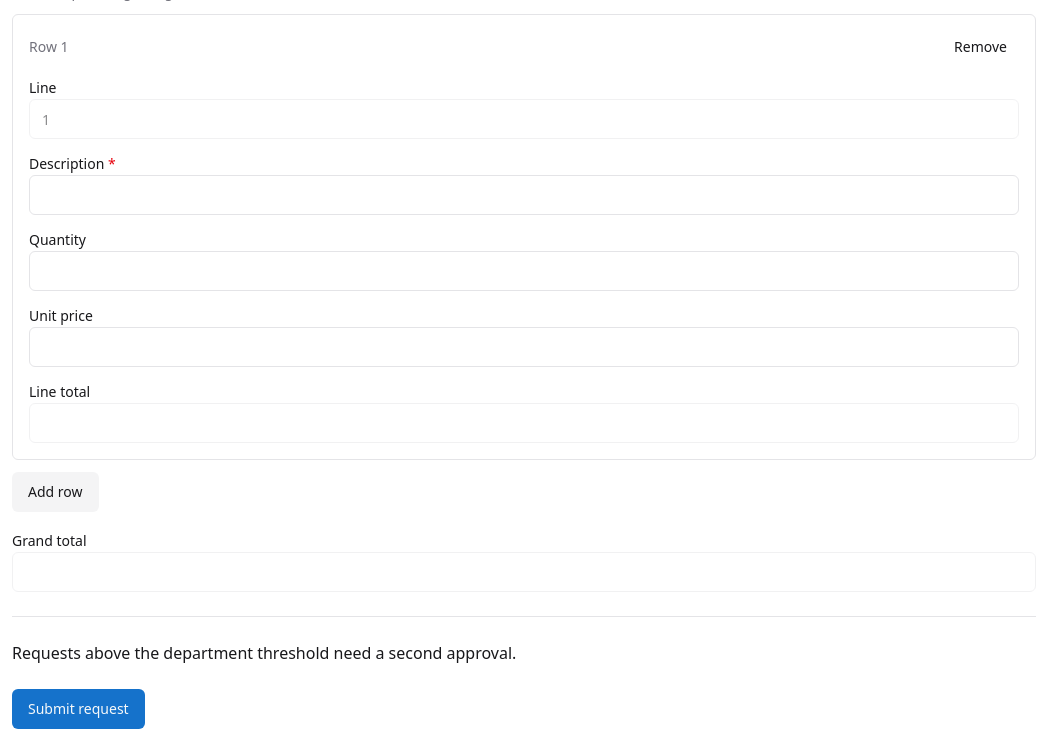
Scenario: identifiers inside a repeater › scopes a row field id by its row
This screenshot has width=1048, height=729.
(page scrolled)
Click the button "Add row" at coordinates (55, 492), box [12,472,98,512]
(page scrolled)
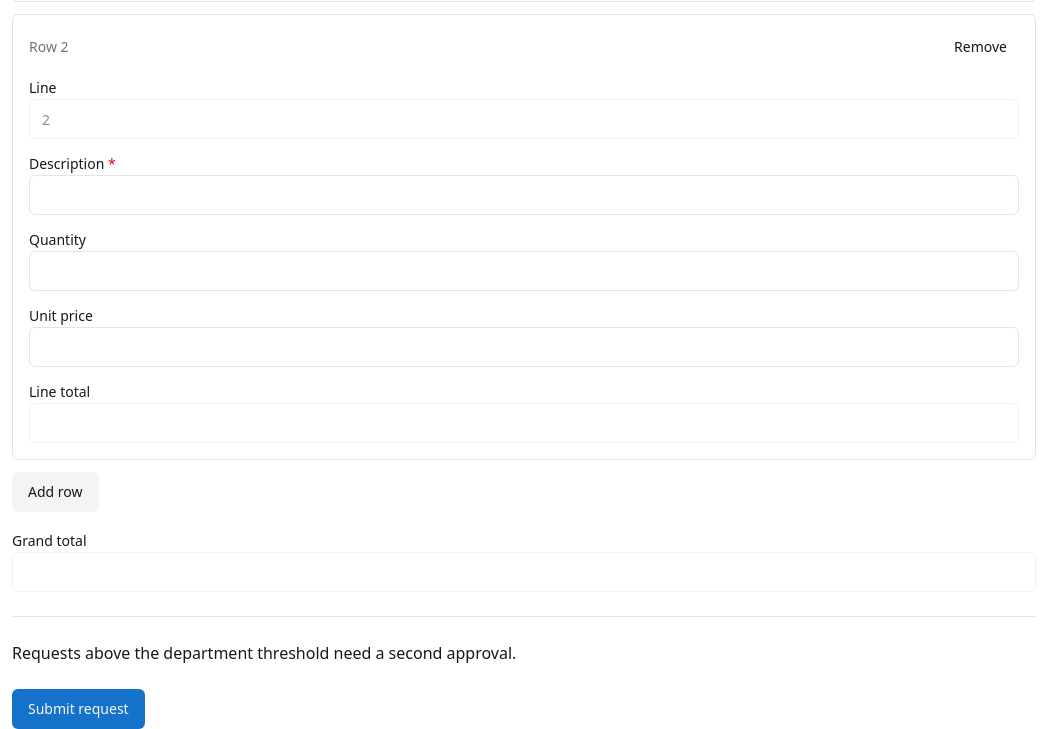
Now the number field with id "jfss-row-1-line-no" is shown, box [29,99,1019,139]
